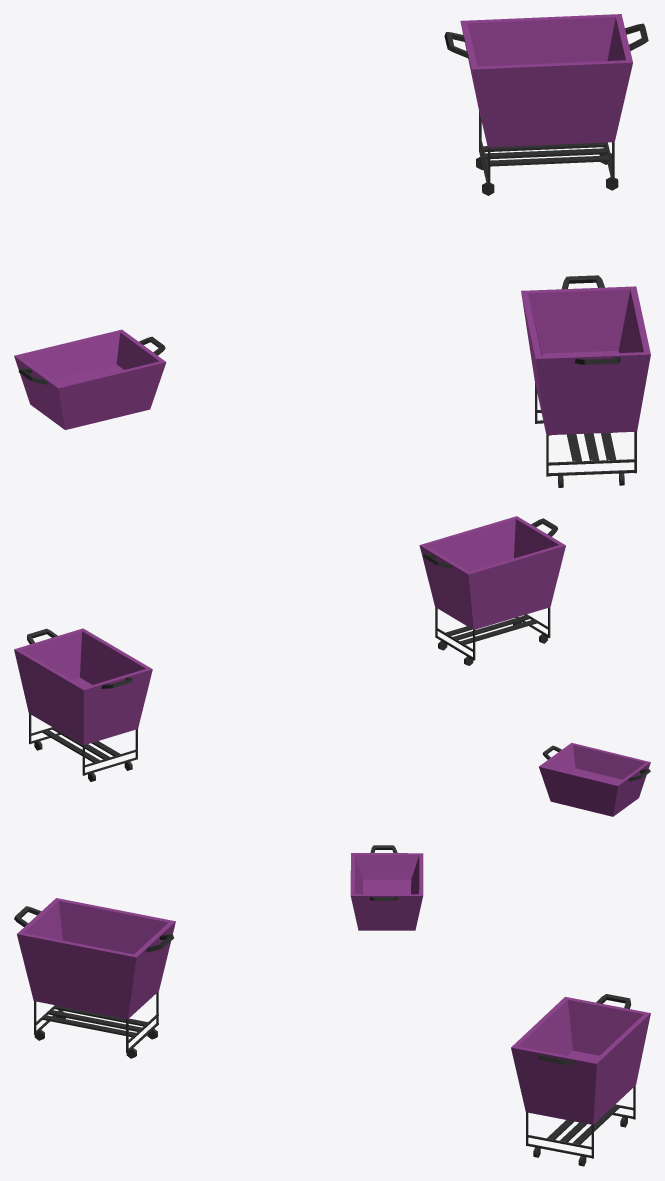
The model's file is paniers a linge.FBX.
3 views of the same model, one above another, from view 1: azimuth 30°, elevation 25°; view 2: azimuth 150°, elevation 25°; view 3: azimuth 270°, elevation 25° (orthographic). The views are drawn at different scales.
Parts seen in each view (by area): view 1: panier a linge roulette, panier a linge roulette001, Object045; view 2: panier a linge roulette001, panier a linge roulette, Object045; view 3: panier a linge roulette001, panier a linge roulette, Object045.
Part boxes in pixels (<box>): panier a linge roulette: <box>444,14,648,195</box>; panier a linge roulette001: <box>521,275,650,487</box>; Object045: <box>14,329,166,429</box>; panier a linge roulette001: <box>419,516,565,665</box>; panier a linge roulette: <box>14,628,152,781</box>; Object045: <box>539,742,650,816</box>; panier a linge roulette001: <box>14,898,175,1058</box>; panier a linge roulette: <box>511,994,650,1166</box>; Object045: <box>350,845,423,930</box>.
Size of the model in its own units: 365 by 67.91 by 338.
